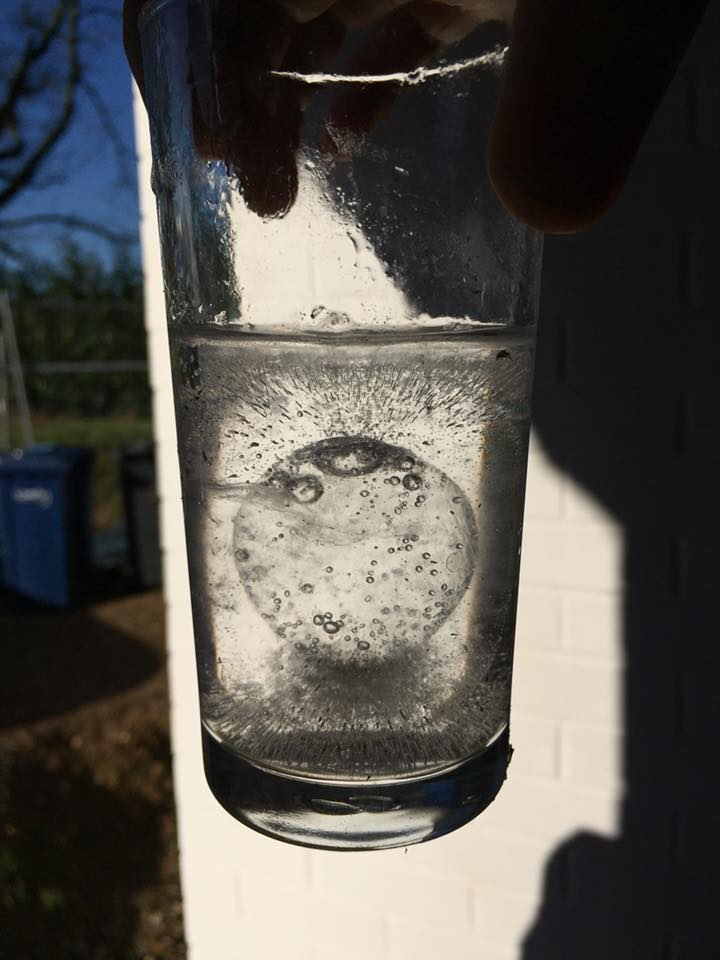glass of water: (148, 102, 550, 859)
